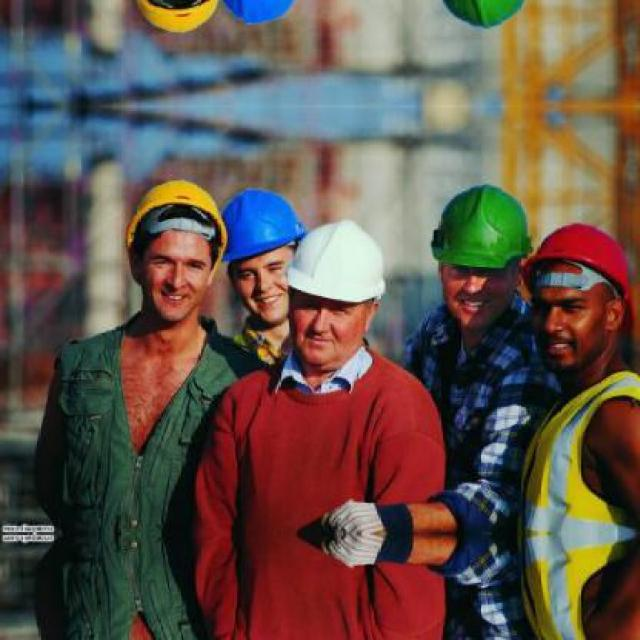Reflective-Jacket: (509, 364, 640, 640)
Safety-Helmet: (420, 177, 537, 281), (520, 216, 638, 313), (283, 216, 394, 313), (117, 171, 231, 247), (218, 182, 310, 267)
